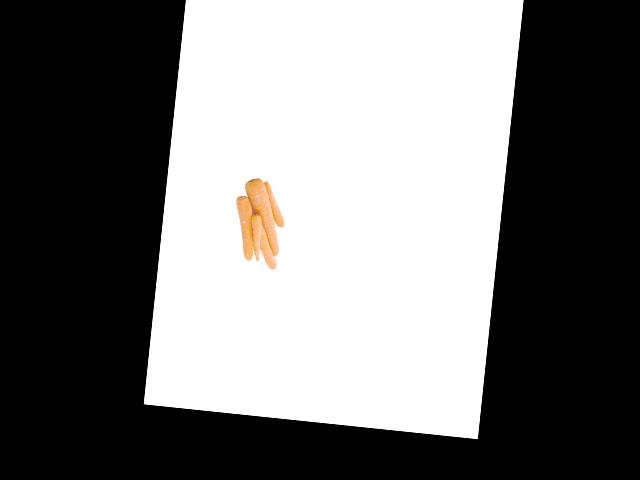carrot: (232, 192, 256, 263)
